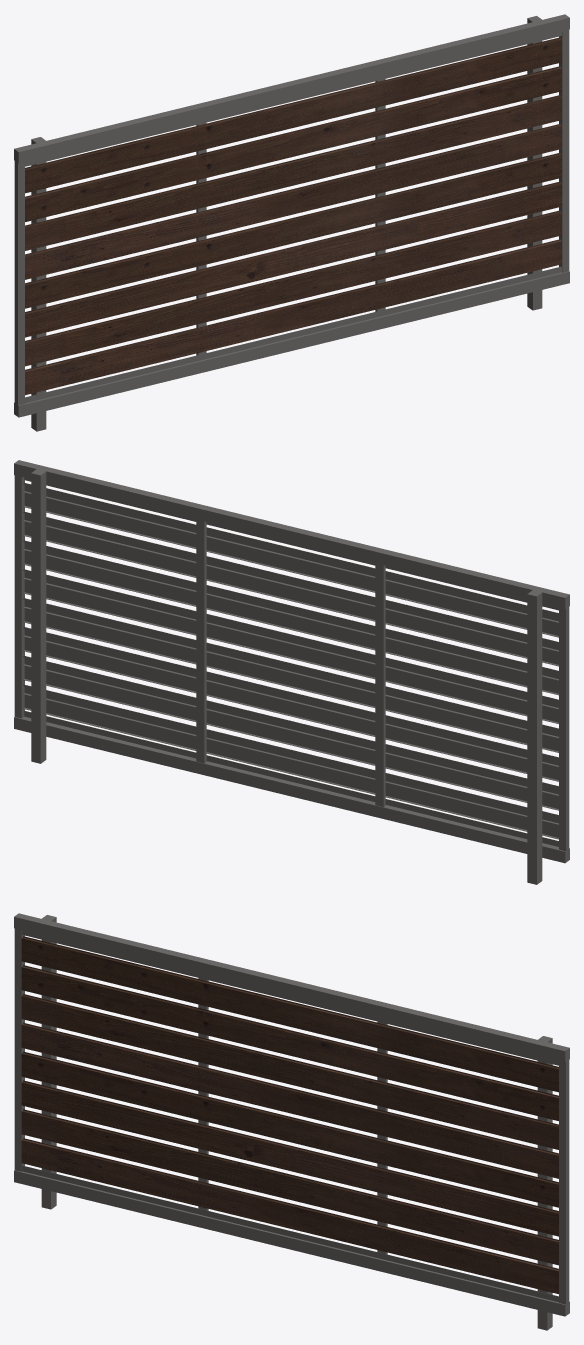
The model's file is EAF-sensia-r-yoko_w1998_h1000_B_darkpine.fbx.
The picture shows the model from 3 angles, top to bottom: view 1: azimuth 30°, elevation 25°; view 2: azimuth 150°, elevation 25°; view 3: azimuth 330°, elevation 25°; orthographic projection.
Visible parts, largest first — view 1: EAF-sensia-r-yoko_w1998_h1000_B-darkpine.002; view 2: EAF-sensia-r-yoko_w1998_h1000_B-darkpine.002; view 3: EAF-sensia-r-yoko_w1998_h1000_B-darkpine.002.
Part boxes in pixels (bbox=[...]): EAF-sensia-r-yoko_w1998_h1000_B-darkpine.002: bbox=[14, 14, 569, 431]; EAF-sensia-r-yoko_w1998_h1000_B-darkpine.002: bbox=[14, 460, 569, 884]; EAF-sensia-r-yoko_w1998_h1000_B-darkpine.002: bbox=[14, 913, 569, 1330].
Size of the model in its own units: 200 by 100 by 6.5.
2 materials, 1 textured.
